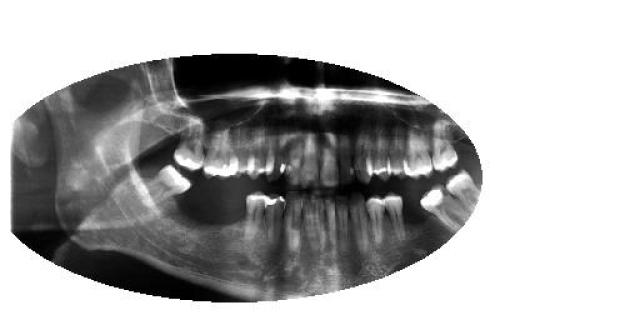Fillings: (204, 125, 238, 179), (173, 122, 205, 172), (265, 192, 286, 248)
